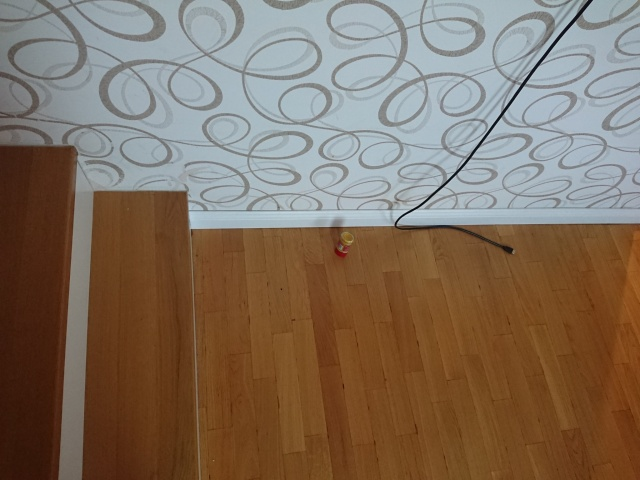Kotanyi Curry Spices Mix 70g: (333, 231, 356, 260)
